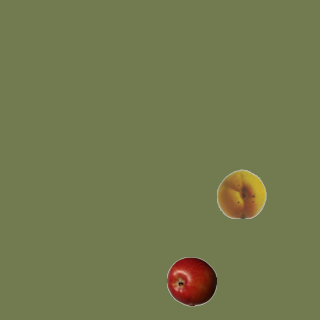Apple Braeburn: (166, 256, 216, 306)
Peach 2: (216, 168, 266, 218)
